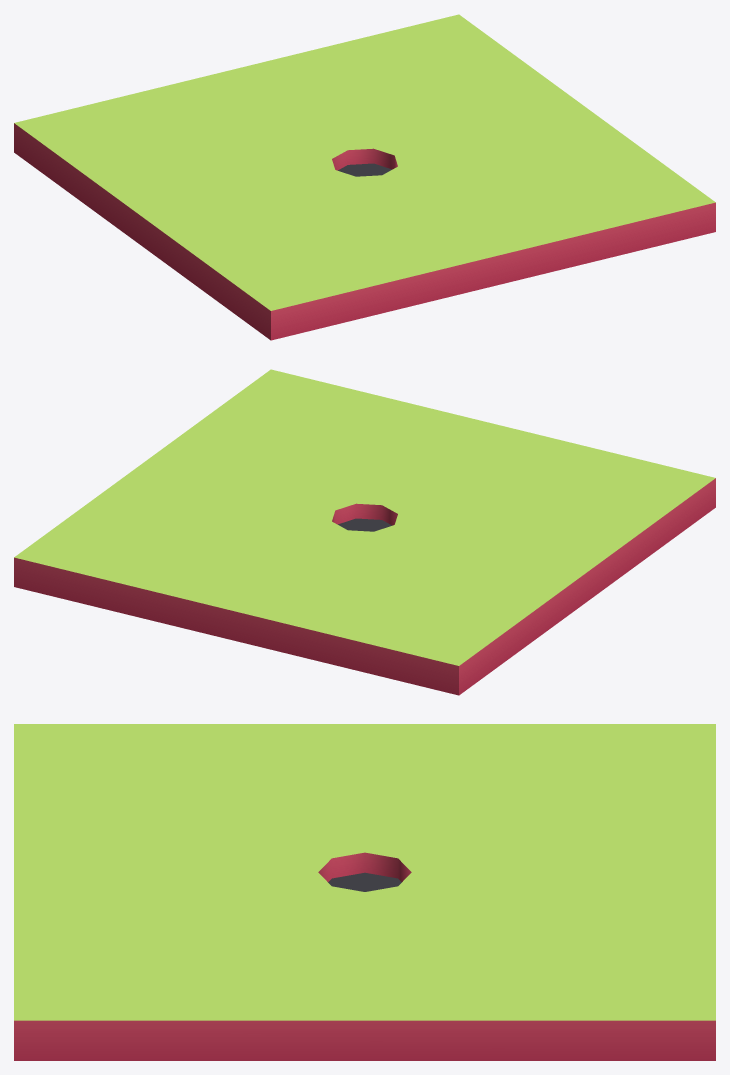
The model's file is hole-open.gltf.
3 renders of one model, top to bottom at view 1: azimuth 30°, elevation 25°; view 2: azimuth 150°, elevation 25°; view 3: azimuth 270°, elevation 25°, orthographic. The views are drawn at different scales.
Visible parts, largest first — view 1: hole-open; view 2: hole-open; view 3: hole-open.
Part boxes in pixels (left/top/right/bottom): hole-open: left=14, top=14, right=715, bottom=340; hole-open: left=14, top=369, right=715, bottom=695; hole-open: left=14, top=724, right=715, bottom=1060.
Size of the model in its own units: 0.9999 by 0.0633 by 0.9999.
1 material, 1 textured.
